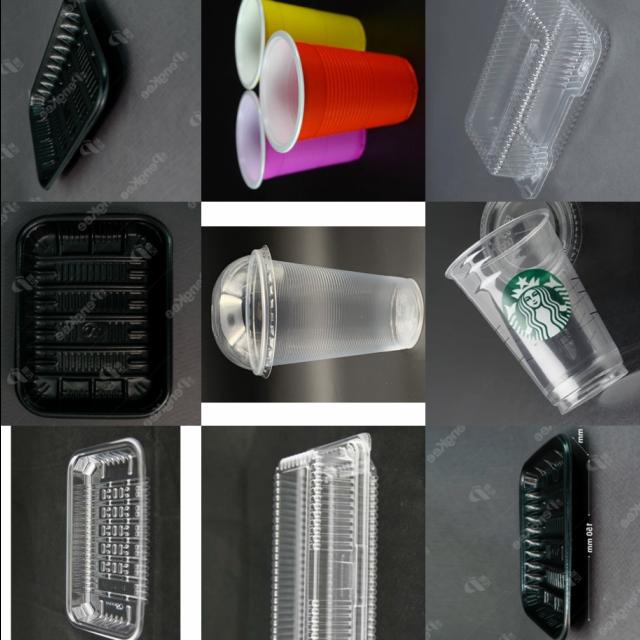plastik: (445, 209, 626, 413), (9, 214, 171, 419), (463, 0, 607, 198), (210, 245, 423, 378), (270, 433, 377, 640), (258, 31, 415, 152), (65, 437, 148, 640), (518, 434, 591, 640), (29, 0, 108, 189), (235, 91, 365, 189), (234, 0, 364, 89), (478, 201, 581, 295)
